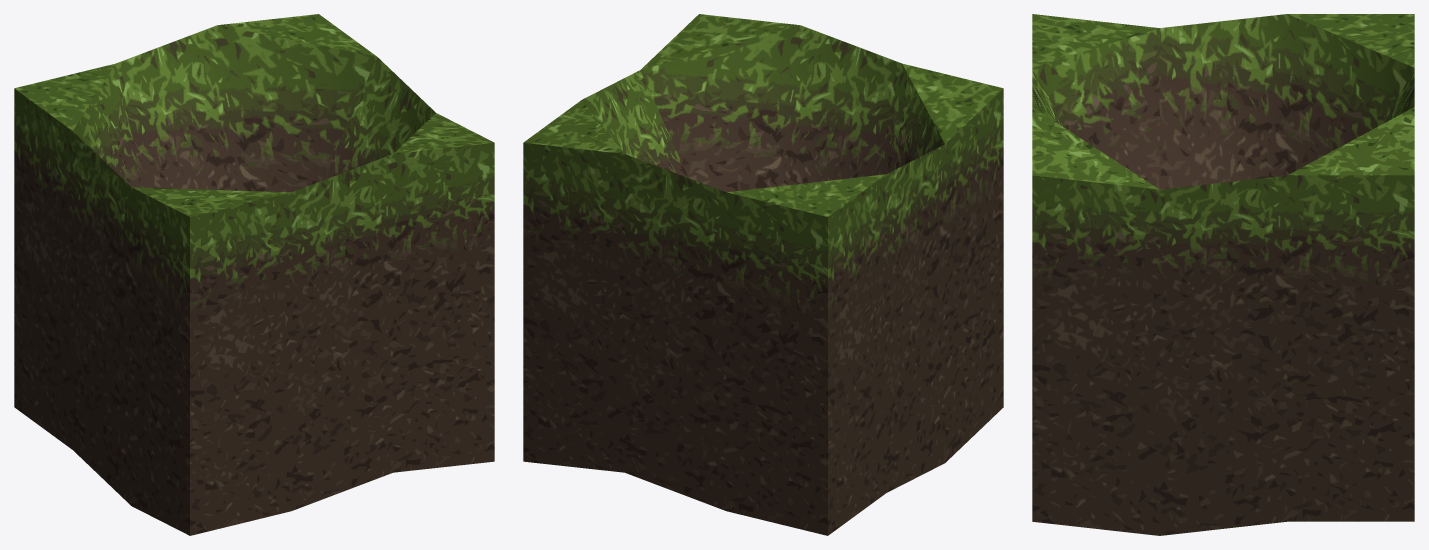
File: block_dug2.FBX
3 views of the same model, side by side, from view 1: azimuth 30°, elevation 25°; view 2: azimuth 150°, elevation 25°; view 3: azimuth 270°, elevation 25° (orthographic). The views are drawn at different scales.
Visible parts, largest first — view 1: block_dug2; view 2: block_dug2; view 3: block_dug2.
Boxes of the visible parts, x1=… form: block_dug2: x1=14, y1=14, x2=494, y2=535; block_dug2: x1=523, y1=14, x2=1003, y2=535; block_dug2: x1=1032, y1=14, x2=1414, y2=535.
Size of the model in its own units: 100 by 108 by 100.
